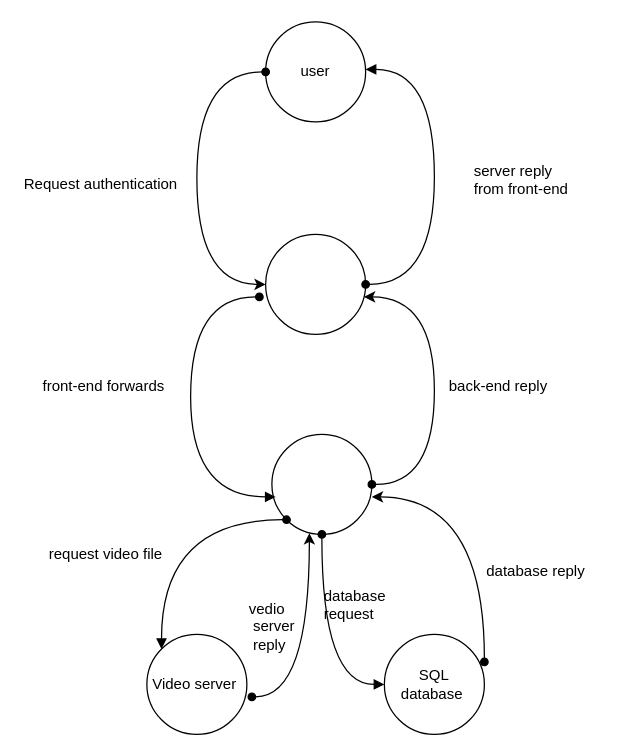
This 618x756 diagram has some shape labels left out. The centre of each missing label's shape, as x and y in pixels:
"back-end server" belongs at pixel 321 483.
"front-end server" belongs at pixel 315 283.
